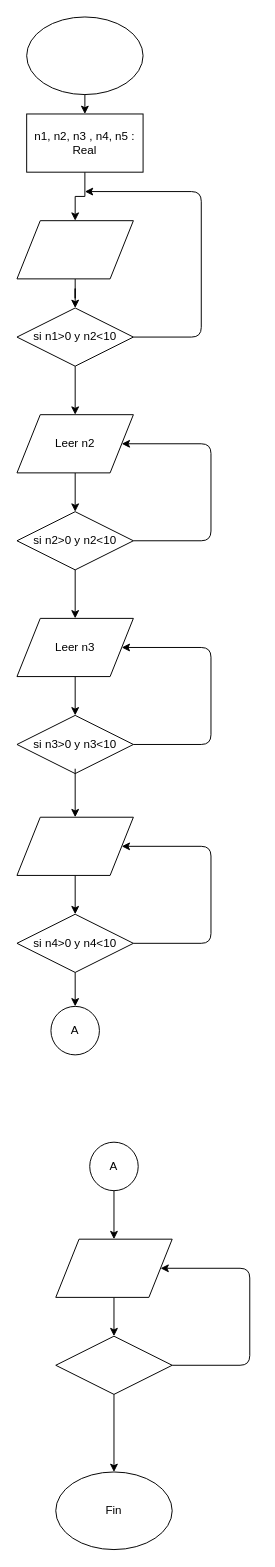
Image size: 275x1567. Some labels were removed from this diagram. Here are the shapes that lost their labels. From the top down, the centre of each, then its label:
At (84,55): "Inicio suma".
At (74,249): "Leer n1".
At (74,845): "Leer n4".
At (113,1267): "Leer n5".
At (113,1364): "si n5>0 y n5<10".
